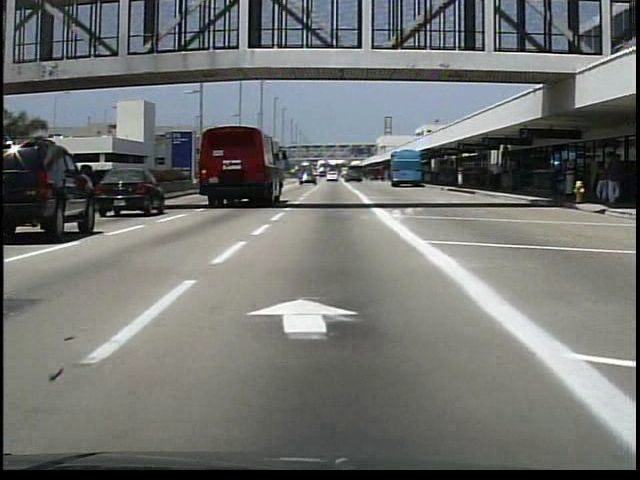person: (493, 163, 506, 192)
